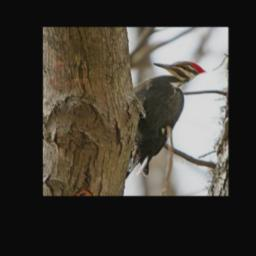Woodpecker: (124, 60, 207, 180)
